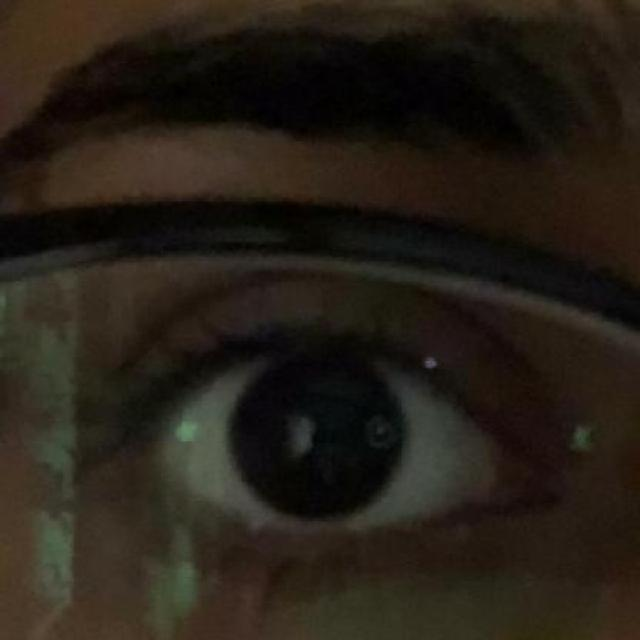awake: (137, 342, 546, 538)
